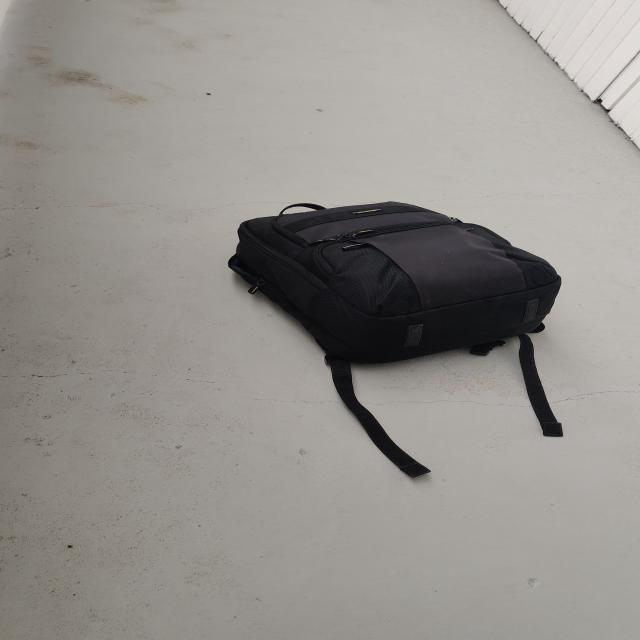backpack: (215, 194, 573, 374)
